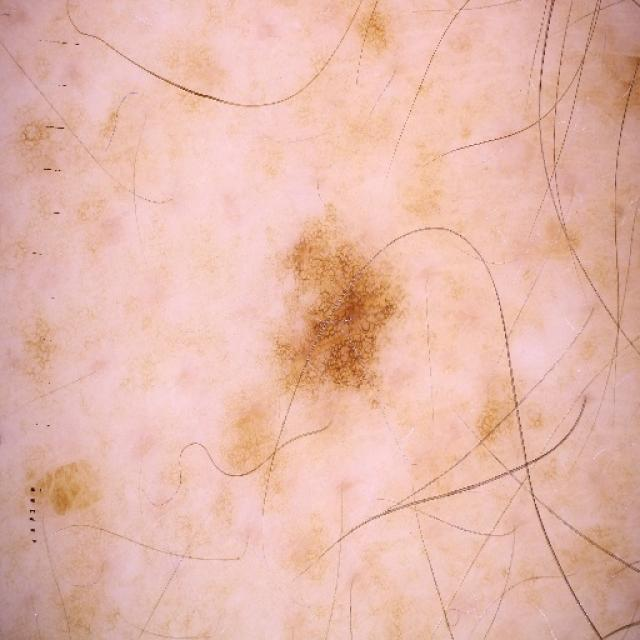Melanoma: (59, 75, 591, 520)
